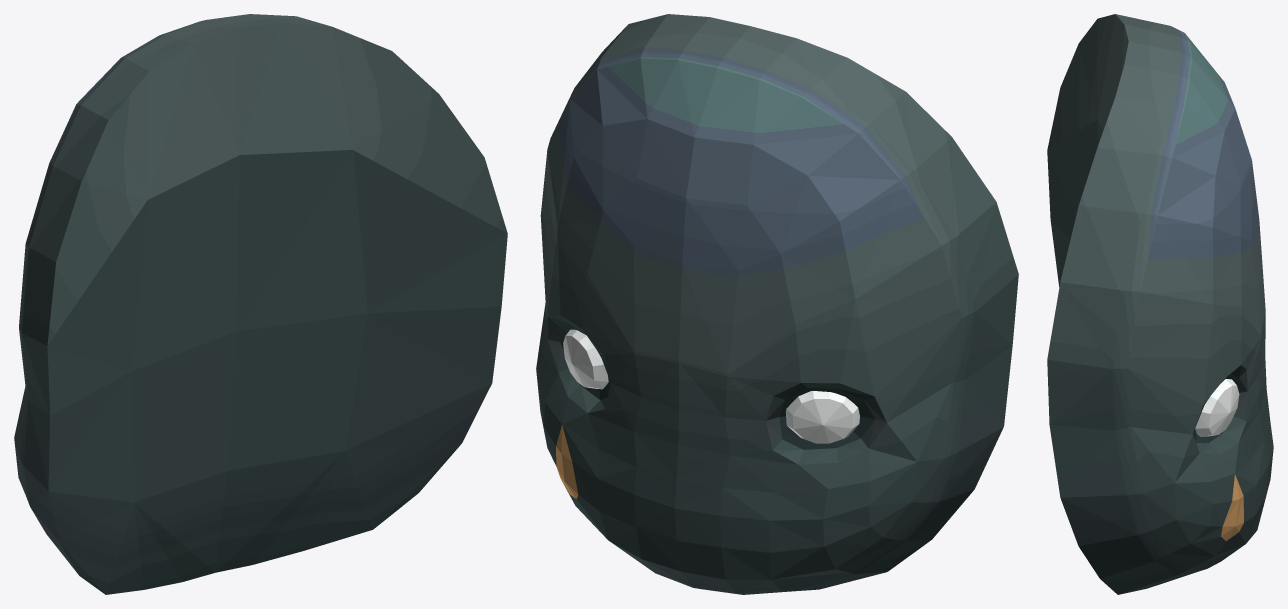
The model's file is CharSkyKid_Mask_AP10MaskC_01.glb.
3 views of the same model, side by side, from view 1: azimuth 30°, elevation 25°; view 2: azimuth 150°, elevation 25°; view 3: azimuth 270°, elevation 25° (orthographic). The views are drawn at different scales.
Parts seen in each view (by area): view 1: CharSkyKid_Mask_AP10MaskC_01; view 2: CharSkyKid_Mask_AP10MaskC_01; view 3: CharSkyKid_Mask_AP10MaskC_01.
Part boxes in pixels (x1=…): CharSkyKid_Mask_AP10MaskC_01: x1=14, y1=14, x2=507, y2=594; CharSkyKid_Mask_AP10MaskC_01: x1=536, y1=14, x2=1018, y2=594; CharSkyKid_Mask_AP10MaskC_01: x1=1047, y1=14, x2=1273, y2=594.
Bounding box in the file's own units: 2.16 × 2.49 × 0.9866.
1 material, 1 textured.
